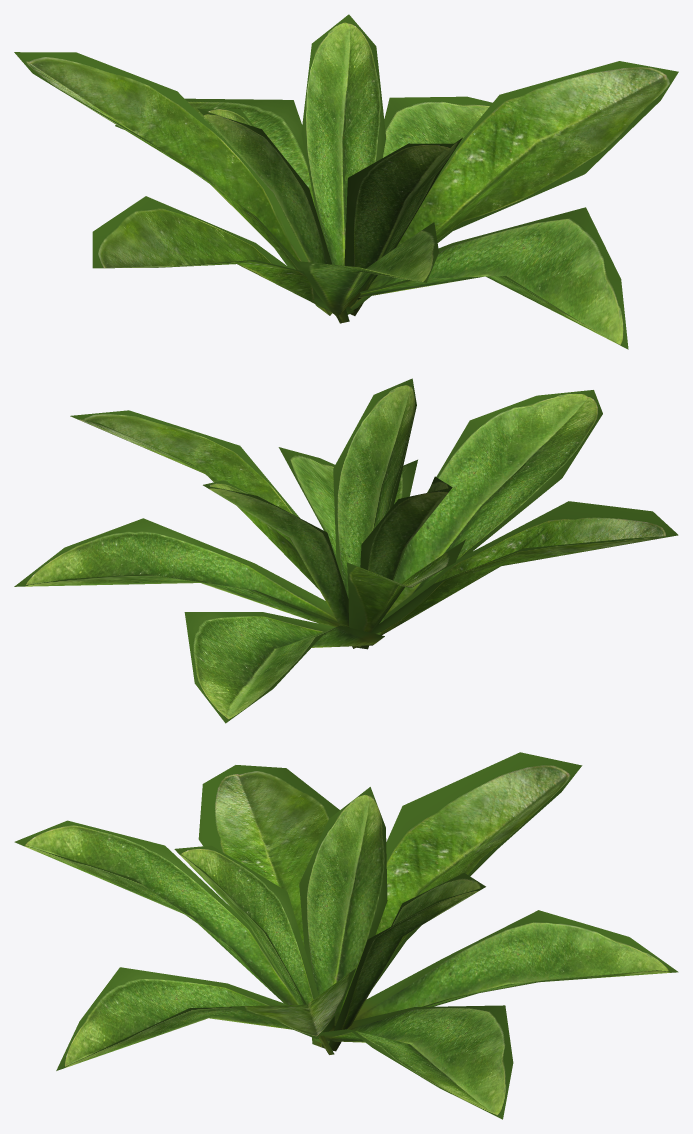
The model's file is plant_03_m.FBX.
3 renders of one model, top to bottom at view 1: azimuth 30°, elevation 25°; view 2: azimuth 150°, elevation 25°; view 3: azimuth 270°, elevation 25°, orthographic. The views are drawn at different scales.
Parts seen in each view (by area): view 1: plane_03; view 2: plane_03; view 3: plane_03.
Part boxes in pixels (x1=…): plane_03: x1=14, y1=14, x2=678, y2=349; plane_03: x1=14, y1=378, x2=678, y2=723; plane_03: x1=14, y1=752, x2=678, y2=1119.
Size of the model in its own units: 38.69 by 13.61 by 38.24.
